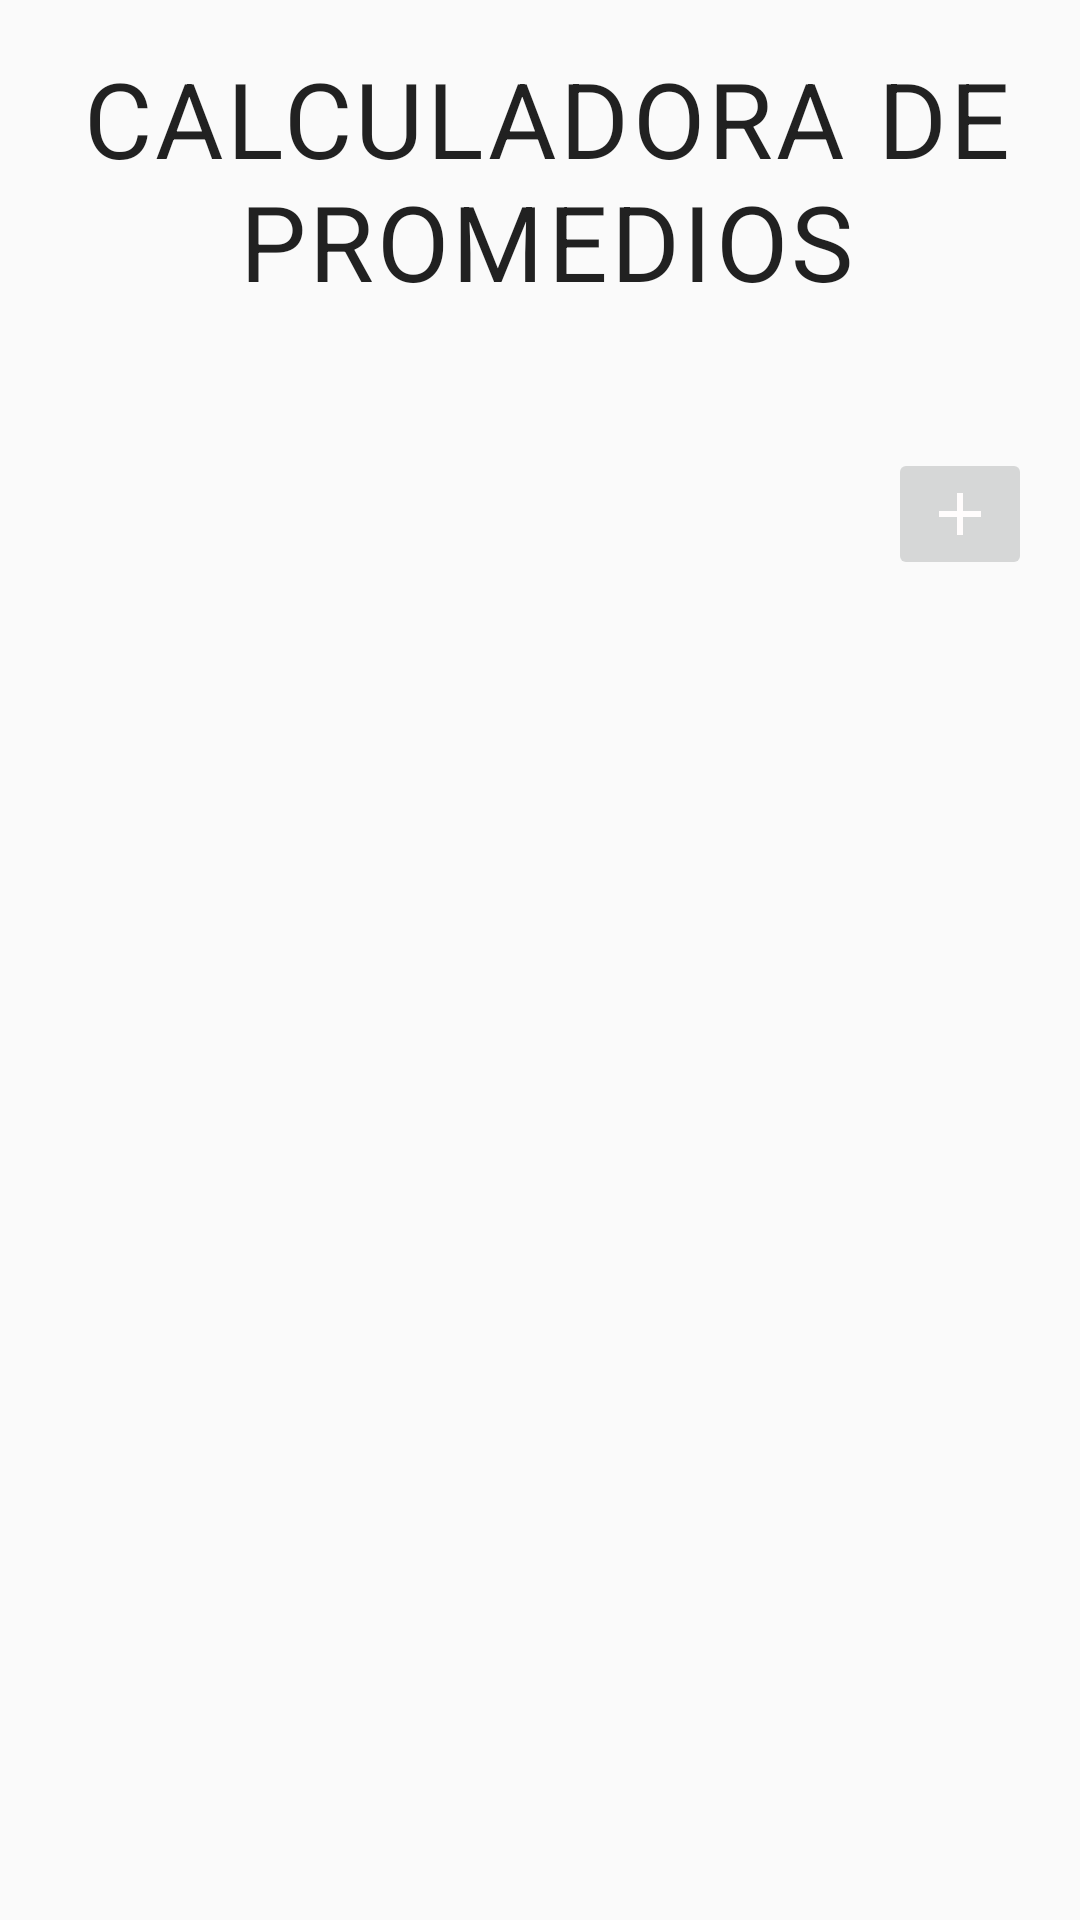

Where to tap for icons on this 1080px×1920px app screen, as (x=x, y=y):
add: (x=960, y=514)
